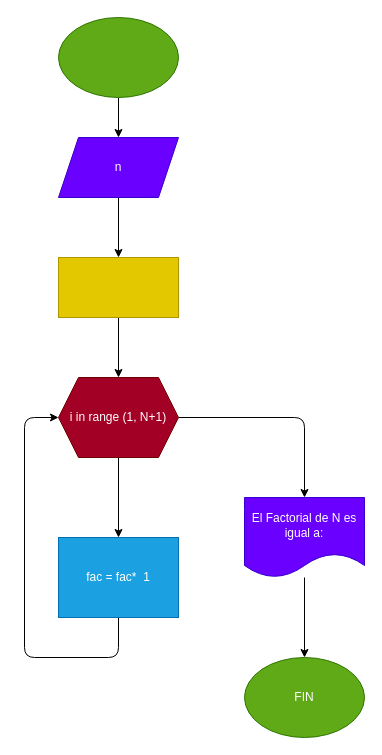
Image size: 382x755. Some labels were removed from this diagram. The centre of each missing label's shape, as x and y in pixels:
"fac = 1" goes at point 118,287.
"INICIO" goes at point 118,57.
